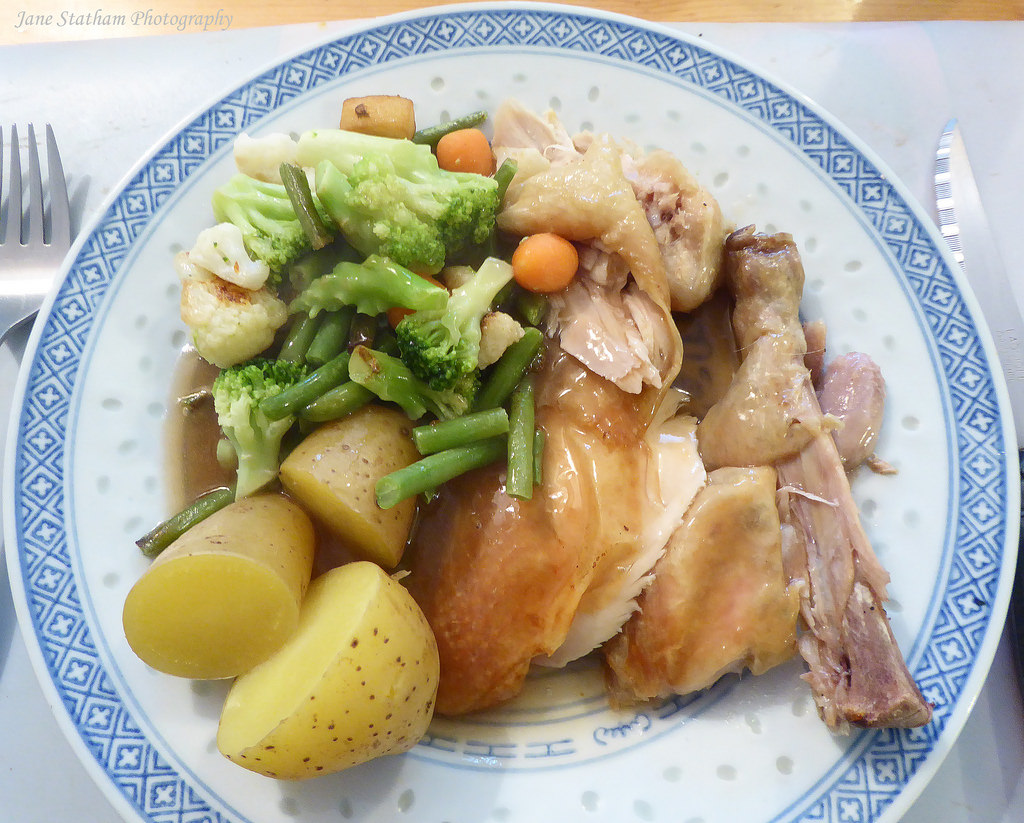boiled potatoes: (137, 521, 422, 775)
chopped lettuce: (263, 182, 452, 349)
